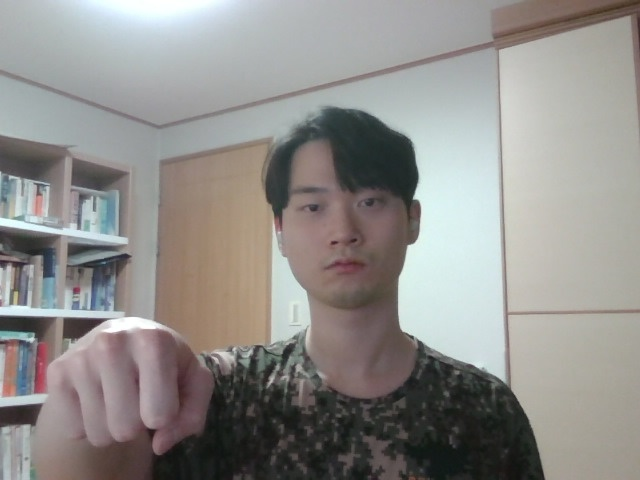yes: (26, 290, 248, 464)
